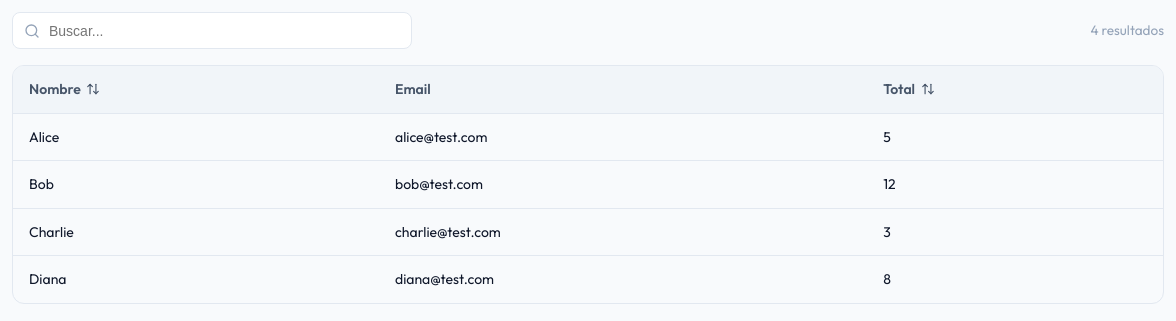
Scenario: DataTable › filters by search
This screenshot has width=1176, height=321.
Step 1. Type "bob" into the field with placeholder "Buscar..." → (212, 31), box top-left (12, 12), bottom-right (412, 49)
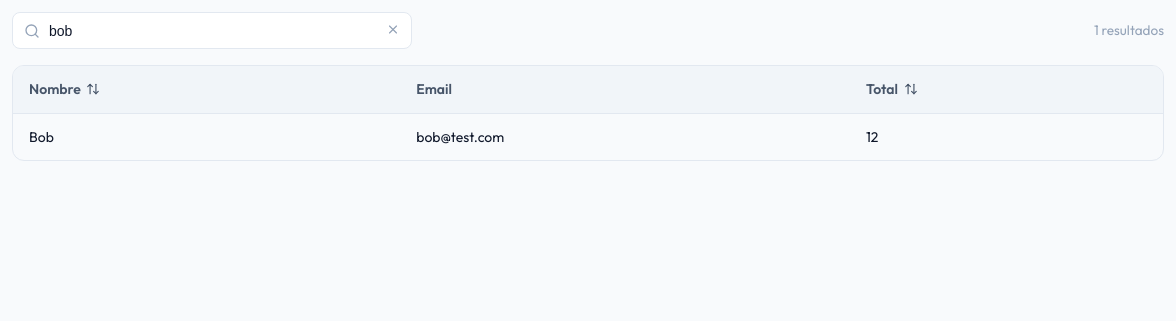
Check: the text "Bob" is shown, box top-left (13, 114), bottom-right (400, 160)
Check: the text "Alice" is gone
Check: the text "1 resultados" is shown, box top-left (1094, 20), bottom-right (1164, 42)
